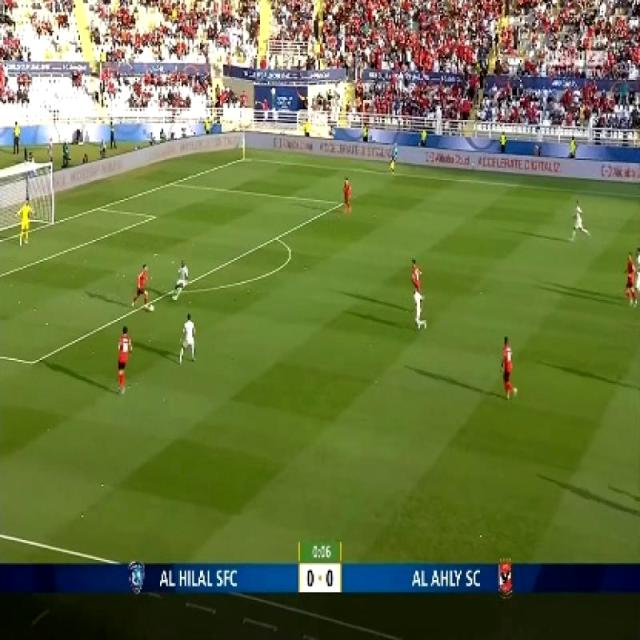bigarea_bottom_inner: (21, 353, 45, 372)
bigarea_top_inner: (336, 198, 346, 210)
bigarea_top_outter: (166, 179, 174, 186)
corner: (238, 154, 248, 160)
smallarea_top_inner: (148, 212, 156, 222)
smallarea_top_outter: (94, 203, 102, 212)
top_arc_area_intersection: (268, 230, 285, 246)
